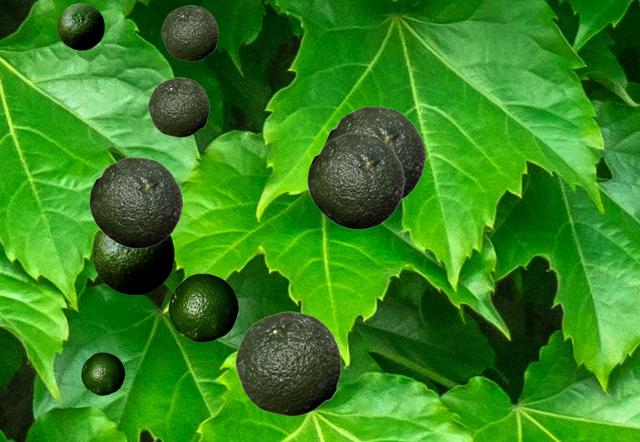calamansi: (235, 311, 340, 415), (324, 106, 425, 199), (307, 133, 404, 228), (89, 157, 182, 247), (92, 230, 173, 294), (168, 273, 238, 341), (148, 77, 208, 136), (161, 5, 217, 60), (57, 3, 103, 49), (81, 352, 124, 394)
